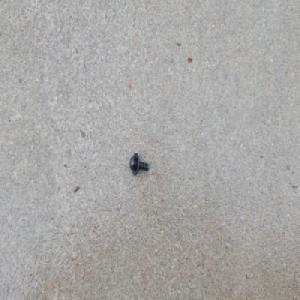BoltWasher: (129, 151, 149, 175)
